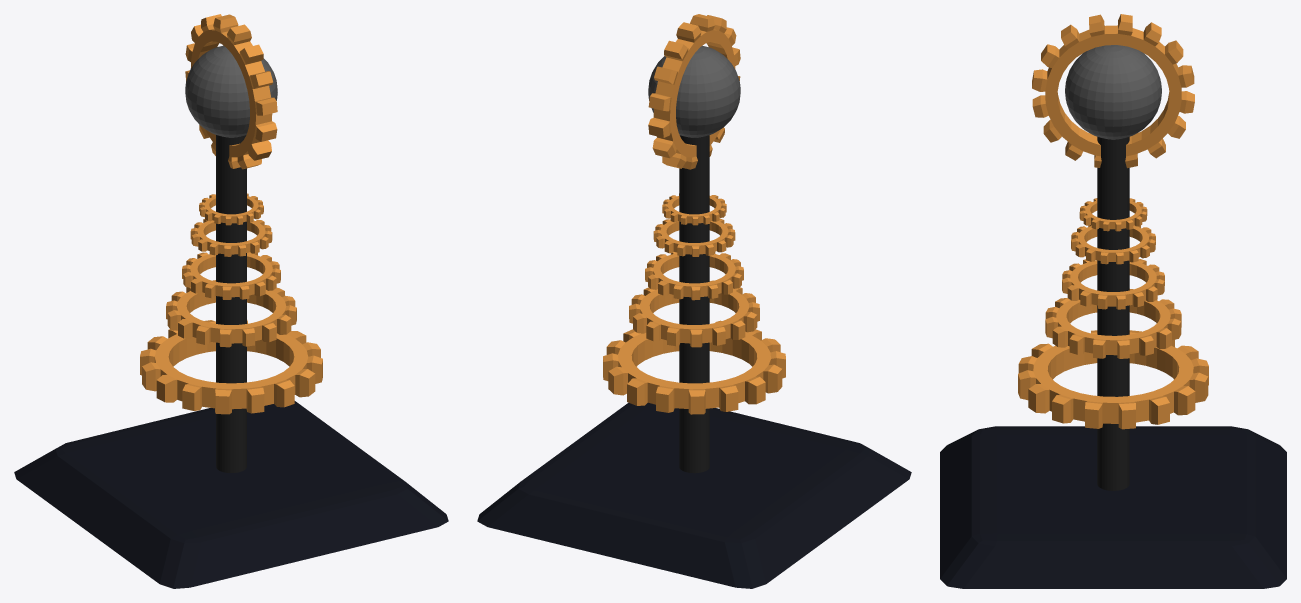
The model's file is Tesla.fbx.
3 renders of one model, left to right at view 1: azimuth 30°, elevation 25°; view 2: azimuth 150°, elevation 25°; view 3: azimuth 270°, elevation 25°, orthographic. The views are drawn at different scales.
Parts seen in each view (by area): view 1: Tower, Cylinder.006, Cylinder, Cylinder.001, Cylinder.007, Cylinder.005, Cylinder.004, Cylinder.003, Cylinder.002; view 2: Tower, Cylinder.006, Cylinder, Cylinder.001, Cylinder.007, Cylinder.005, Cylinder.004, Cylinder.003, Cylinder.002; view 3: Tower, Cylinder.006, Cylinder.001, Cylinder, Cylinder.007, Cylinder.005, Cylinder.004, Cylinder.003, Cylinder.002.
Part boxes in pixels (left/top/right/bottom): Tower: left=14, top=401, right=448, bottom=588; Cylinder.006: left=140, top=320, right=322, bottom=414; Cylinder: left=216, top=135, right=246, bottom=472; Cylinder.001: left=185, top=14, right=277, bottom=169; Cylinder.007: left=185, top=45, right=277, bottom=137; Cylinder.005: left=166, top=280, right=296, bottom=347; Cylinder.004: left=182, top=252, right=280, bottom=299; Cylinder.003: left=190, top=219, right=272, bottom=256; Cylinder.002: left=199, top=193, right=263, bottom=225; Tower: left=477, top=402, right=911, bottom=588; Cylinder.006: left=603, top=320, right=785, bottom=414; Cylinder: left=679, top=135, right=709, bottom=473; Cylinder.001: left=648, top=14, right=740, bottom=169; Cylinder.007: left=648, top=45, right=740, bottom=137; Cylinder.005: left=629, top=280, right=759, bottom=347; Cylinder.004: left=645, top=252, right=743, bottom=300; Cylinder.003: left=653, top=218, right=735, bottom=256; Cylinder.002: left=662, top=193, right=726, bottom=225; Tower: left=940, top=426, right=1286, bottom=588; Cylinder.006: left=1018, top=330, right=1208, bottom=429; Cylinder.001: left=1032, top=14, right=1194, bottom=168; Cylinder: left=1097, top=137, right=1129, bottom=490; Cylinder.007: left=1065, top=45, right=1161, bottom=139; Cylinder.005: left=1045, top=289, right=1181, bottom=358; Cylinder.004: left=1062, top=259, right=1164, bottom=309; Cylinder.003: left=1071, top=225, right=1155, bottom=264; Cylinder.002: left=1079, top=198, right=1147, bottom=231.
Size of the model in its own units: 2.2 by 2.2 by 3.51.
